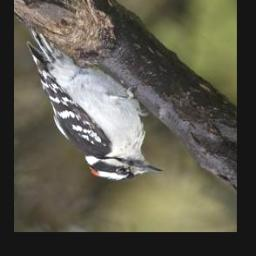Woodpecker: (28, 25, 165, 181)
